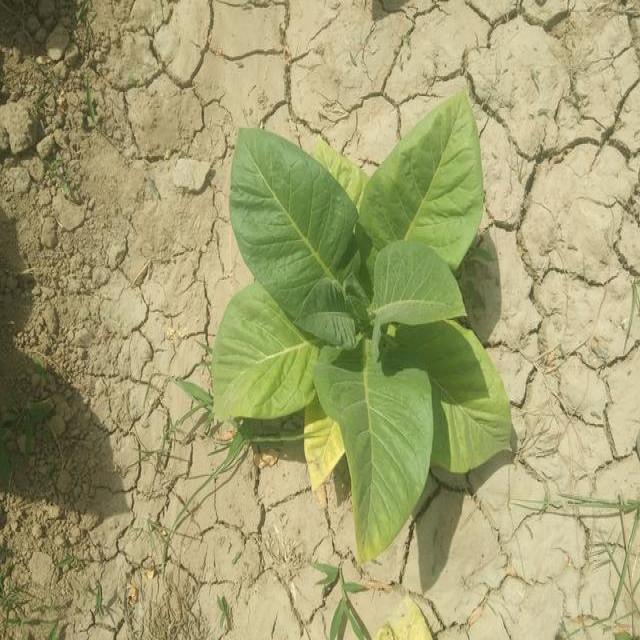crop: (208, 94, 518, 566)
